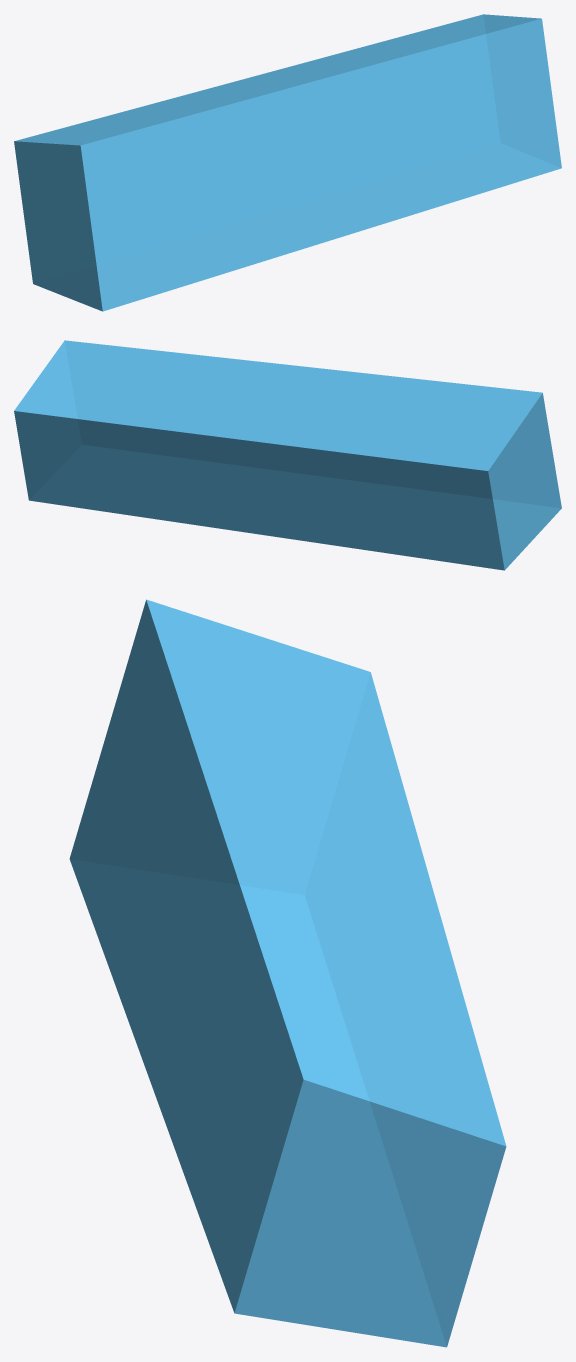
Rendered from Event_420604493_HErechit_8.fbx.
The picture shows the model from 3 angles, top to bottom: view 1: azimuth 30°, elevation 25°; view 2: azimuth 150°, elevation 25°; view 3: azimuth 270°, elevation 25°; orthographic projection. The views are drawn at different scales.
Parts seen in each view (by area): view 1: Model; view 2: Model; view 3: Model.
Part boxes in pixels (<box>): Model: <box>14,14,561,311</box>; Model: <box>14,340,561,570</box>; Model: <box>69,599,506,1347</box>.
Bounding box in the file's own units: 1.12 × 0.387 × 0.4792.
